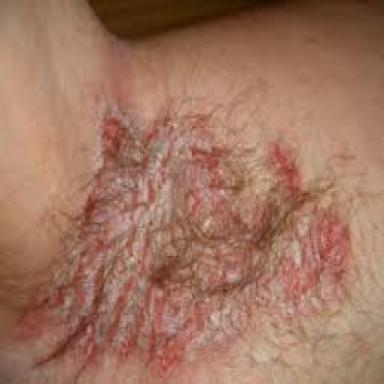Hailey-Hailey-Disease: (23, 100, 348, 373)
